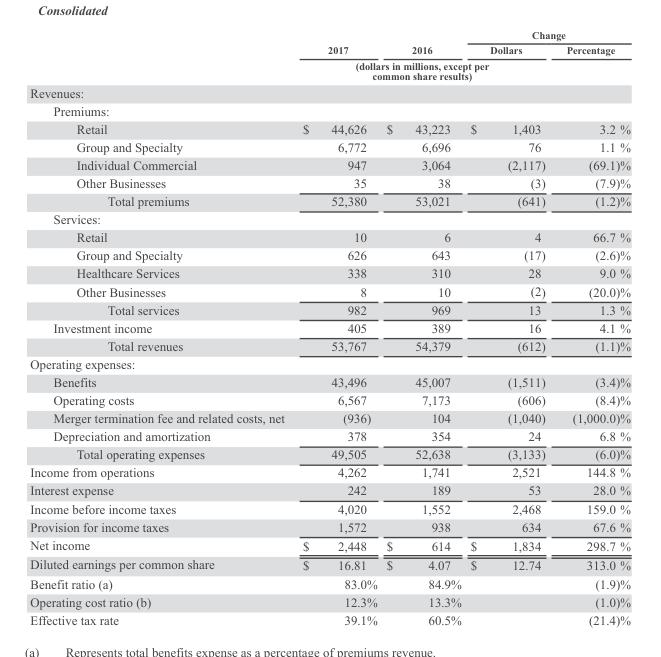table: (29, 28, 630, 626)
table column: (29, 28, 292, 626), (465, 28, 555, 626), (292, 28, 381, 626), (381, 28, 465, 626), (555, 28, 630, 626)
table column header: (29, 28, 630, 83)
table projected row header: (29, 83, 630, 101), (29, 101, 630, 119), (29, 209, 630, 227), (29, 354, 630, 372)
table row: (29, 57, 630, 83), (29, 554, 630, 574), (29, 245, 630, 264), (29, 462, 630, 481), (29, 535, 630, 554), (29, 83, 630, 101), (29, 101, 630, 119), (29, 119, 630, 137), (29, 137, 630, 155), (29, 155, 630, 173), (29, 173, 630, 191), (29, 191, 630, 209), (29, 209, 630, 227), (29, 227, 630, 245), (29, 264, 630, 282), (29, 282, 630, 300), (29, 300, 630, 318), (29, 318, 630, 336), (29, 336, 630, 354), (29, 354, 630, 372), (29, 372, 630, 390), (29, 390, 630, 408), (29, 408, 630, 426), (29, 426, 630, 444), (29, 444, 630, 462), (29, 481, 630, 499), (29, 499, 630, 517), (29, 517, 630, 535), (29, 574, 630, 592), (29, 592, 630, 610), (29, 610, 630, 626), (29, 42, 630, 57), (29, 28, 630, 42)
table spanning cell: (292, 57, 555, 83), (555, 42, 630, 83), (292, 28, 381, 57), (381, 28, 465, 57), (465, 28, 630, 42)
